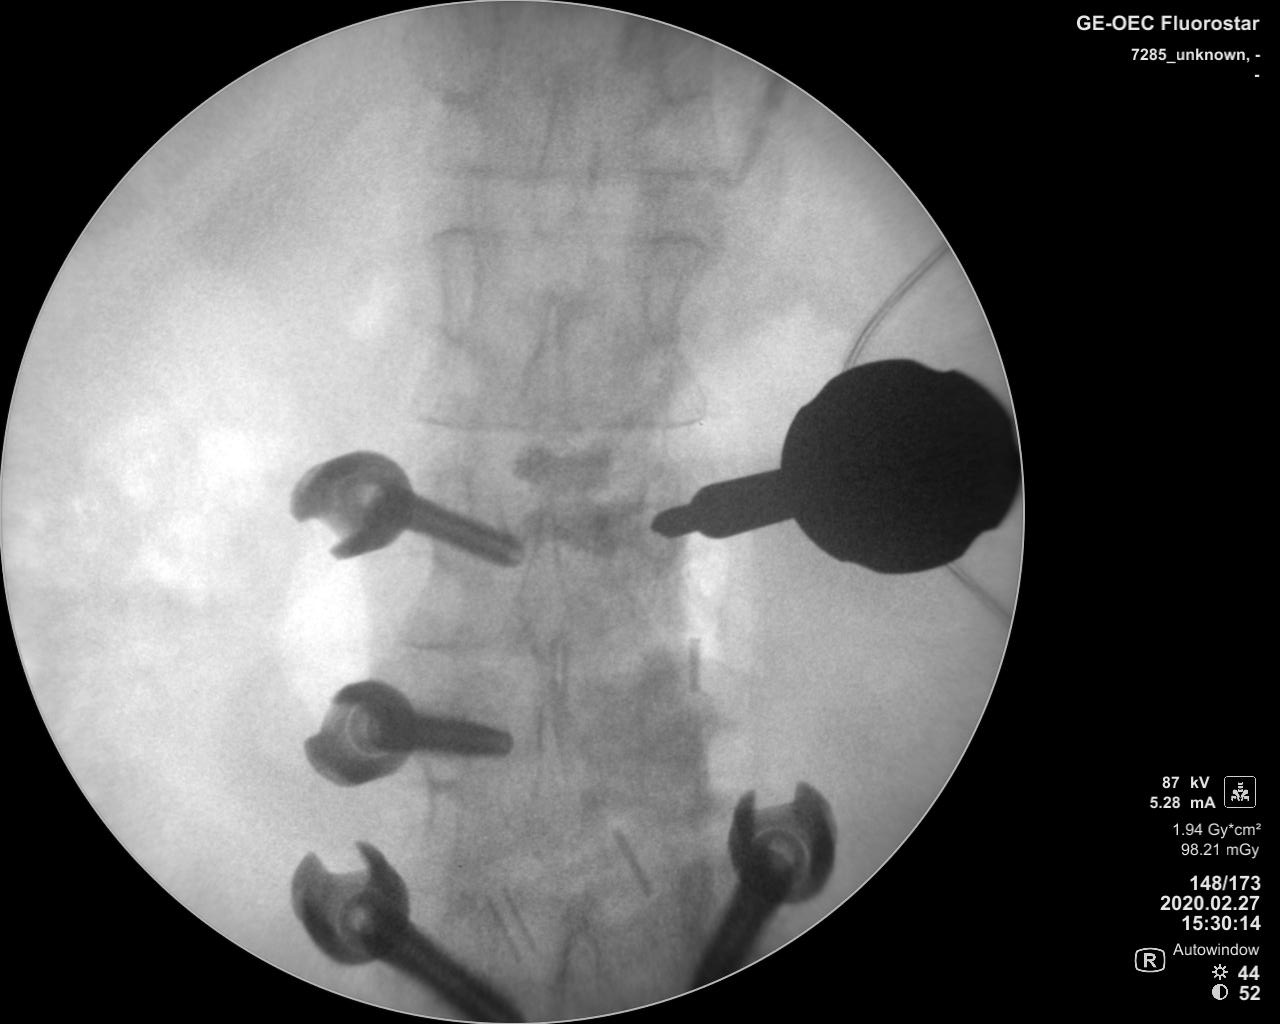eyes: (427, 6, 507, 104), (434, 228, 483, 343), (643, 233, 691, 344), (653, 31, 711, 108)
line: (427, 220, 712, 254), (429, 159, 732, 189), (408, 411, 707, 435)
nose: (526, 82, 585, 237), (516, 281, 571, 426), (519, 502, 566, 667)
